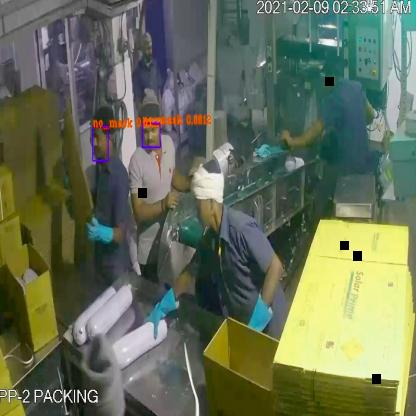glove: (145, 286, 180, 345), (84, 209, 117, 250)
no_glove: (125, 178, 180, 231), (273, 113, 329, 154), (164, 166, 200, 200)
